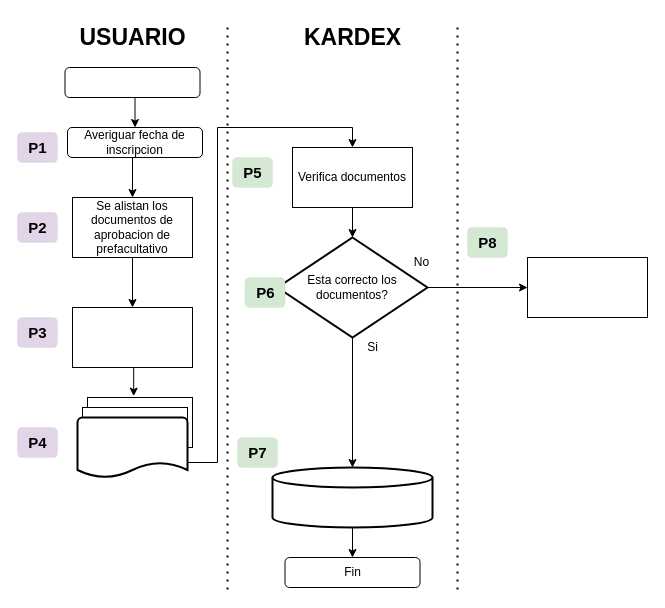
Some shapes in this 665 by 608 pixel diagram are drawn without their labels. Here are the shapes that lost their labels. From the top down, the centre of each, then its label:
At pixel 132 82: "Inicio".
At pixel 587 287: "Notificacion de causa del rechazo de documento".
At pixel 132 337: "Alistar documentos complemetarios".
At pixel 132 447: "Presentar documentos".
At pixel 352 497: "Registrar usuario al sistema".
